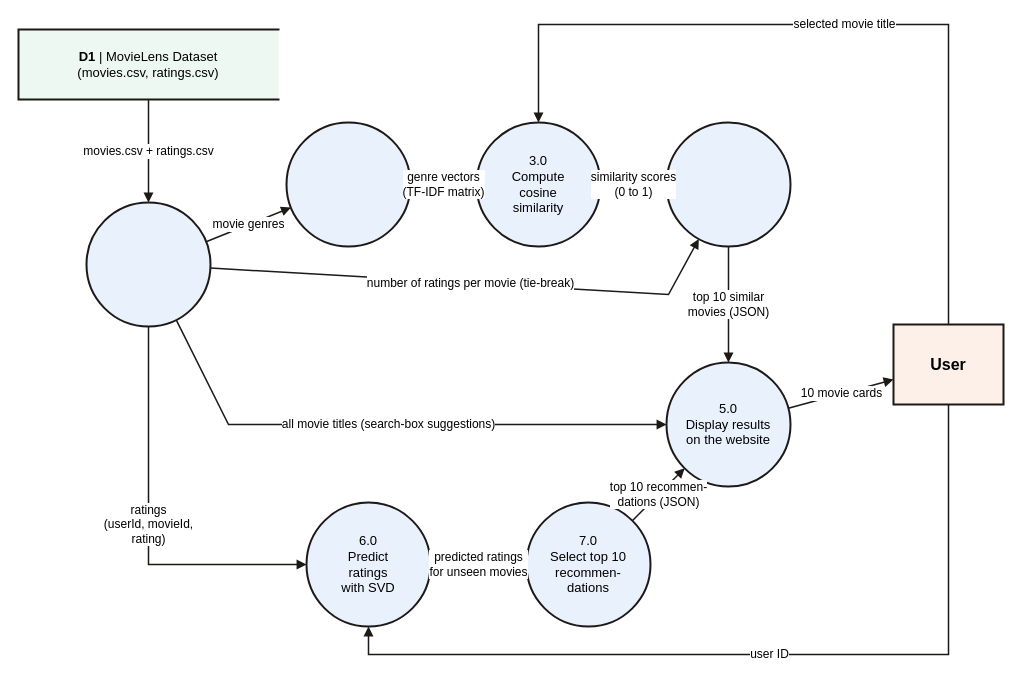
Some shapes in this 1021 by 681 pixel diagram are drawn without their labels. Each missing label, with the centre of its shape:
1.0 Load movie data: (148,264)
2.0 Convert genres to vectors (TF-IDF): (348,184)
4.0 Select top 10 similar movies: (728,184)
